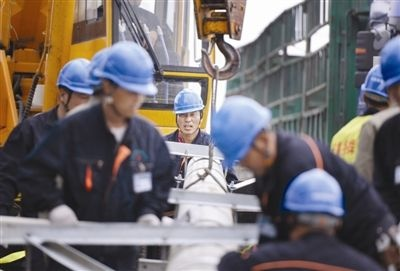blue: (213, 94, 276, 175), (284, 165, 346, 235), (100, 39, 154, 118), (56, 57, 94, 112), (173, 87, 204, 136), (362, 63, 393, 111)
